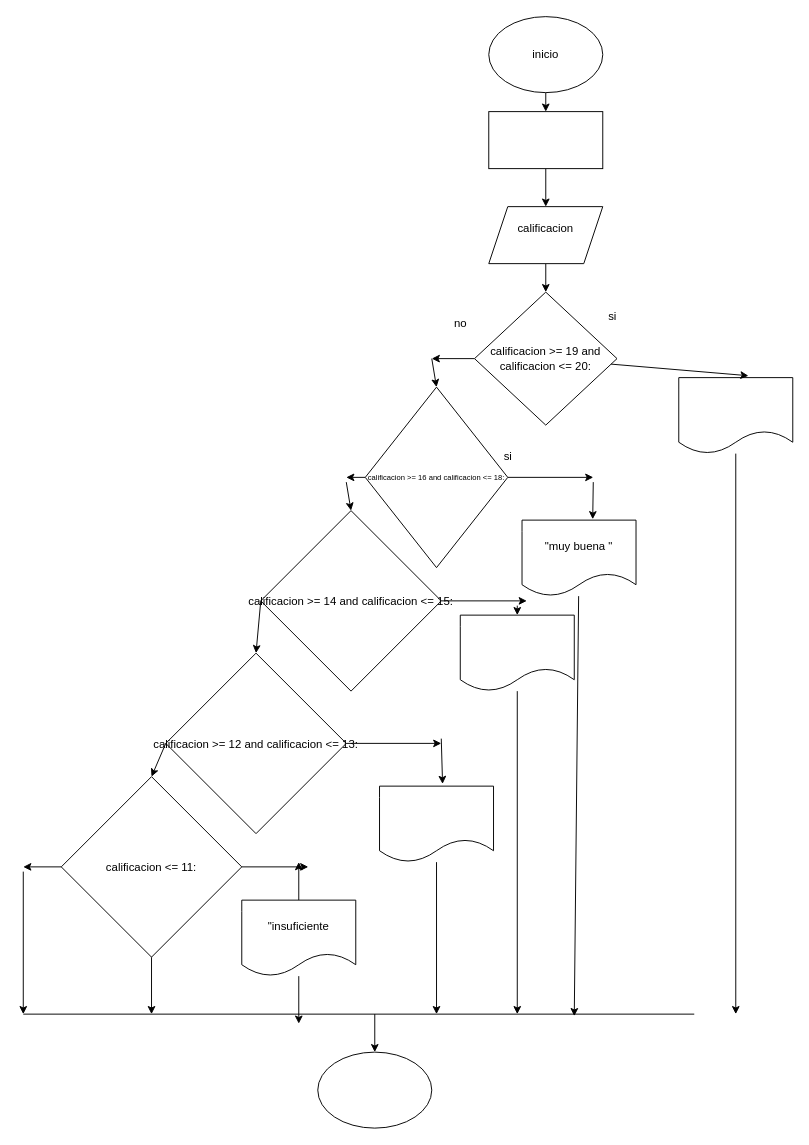
The diagram is 809 pixels wide and 1145 high, and some of its shapes have lost their labels. Here are the shapes that lost their labels. From the top down, the box of each, then its label:
(488, 111, 603, 169): int calificacion
(678, 377, 793, 454): "Sobresaliente"
(459, 614, 574, 691): "buena "
(379, 785, 494, 862): "regular"
(317, 1051, 432, 1128): FIN
